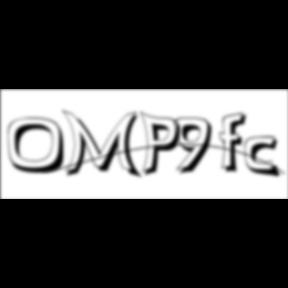9: (174, 117, 220, 177)
M: (62, 108, 146, 181)
O: (8, 117, 72, 176)
P: (140, 110, 188, 180)
c: (245, 136, 285, 180)
f: (220, 111, 252, 175)
